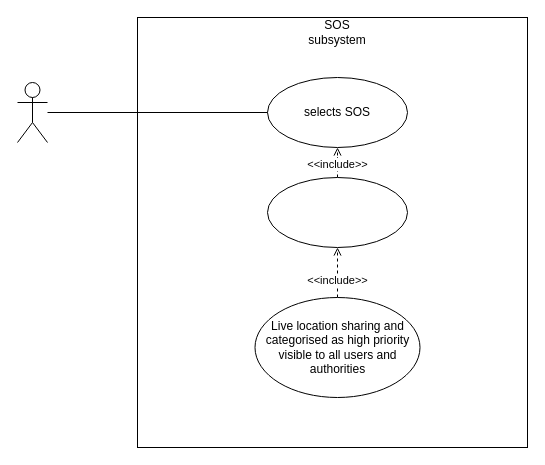
Some shapes in this 545 by 465 pixel diagram are drawn without their labels. Each missing label, with the centre of its shape:
SOS report is set out: the point at 337,212
User: the point at 32,112
